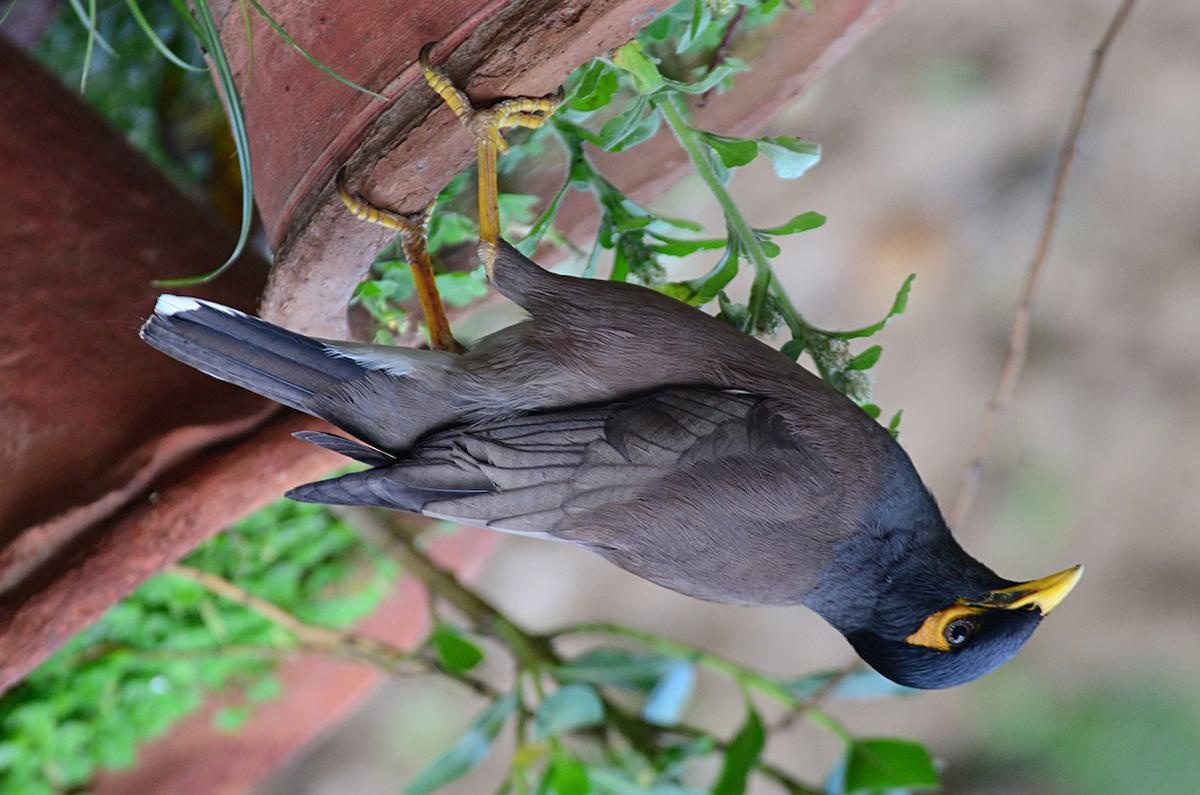myna: (159, 138, 1108, 703)
